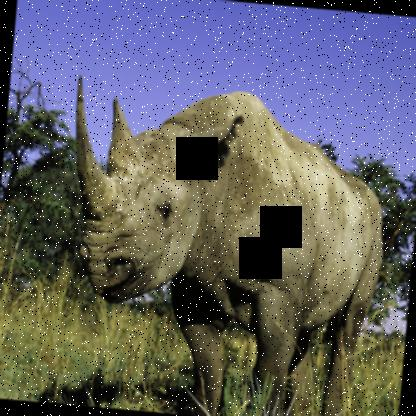Diceros bicornis: (48, 69, 399, 415)
